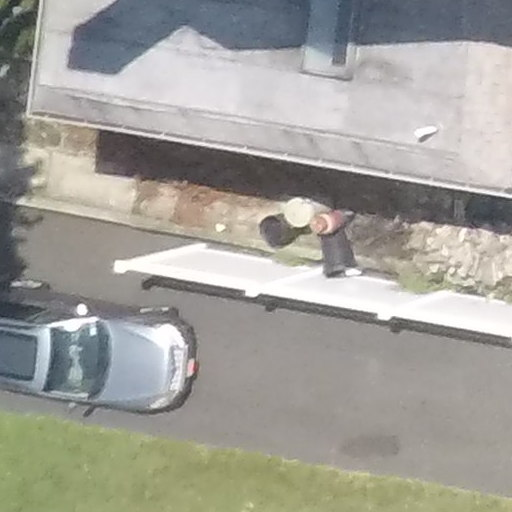car: (1, 256, 222, 443)
container: (307, 226, 378, 283), (250, 210, 297, 257), (279, 194, 321, 225)
trash bin: (314, 227, 363, 283), (254, 213, 296, 252)
